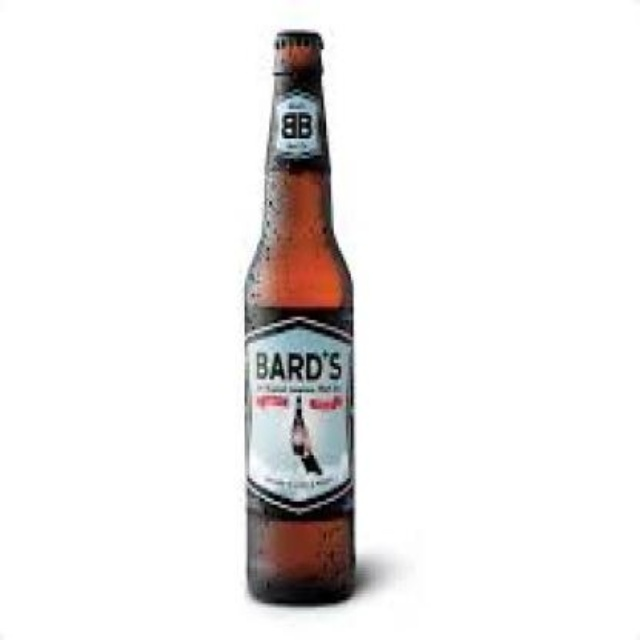trash: (245, 31, 354, 602)
